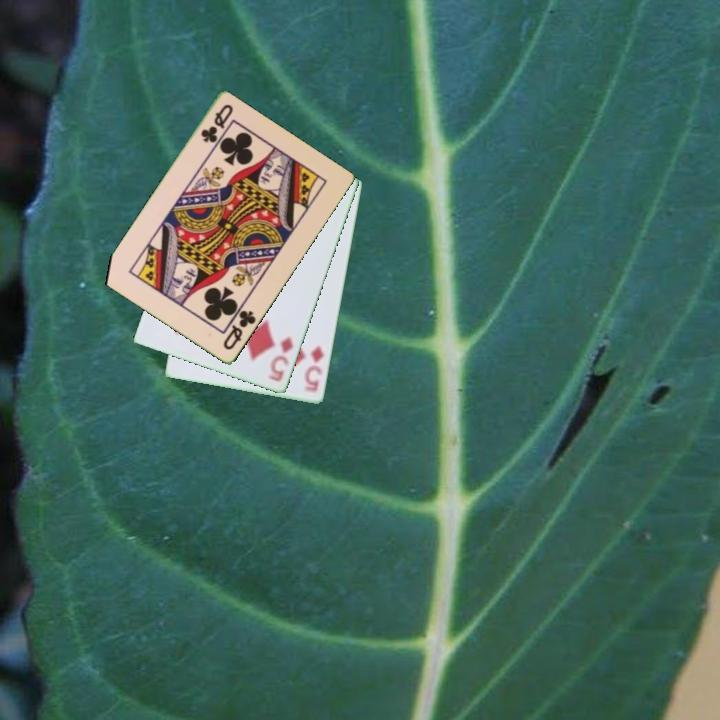5d: (264, 333, 297, 385), (301, 342, 326, 396)
Qc: (220, 307, 259, 354), (197, 101, 236, 146)
